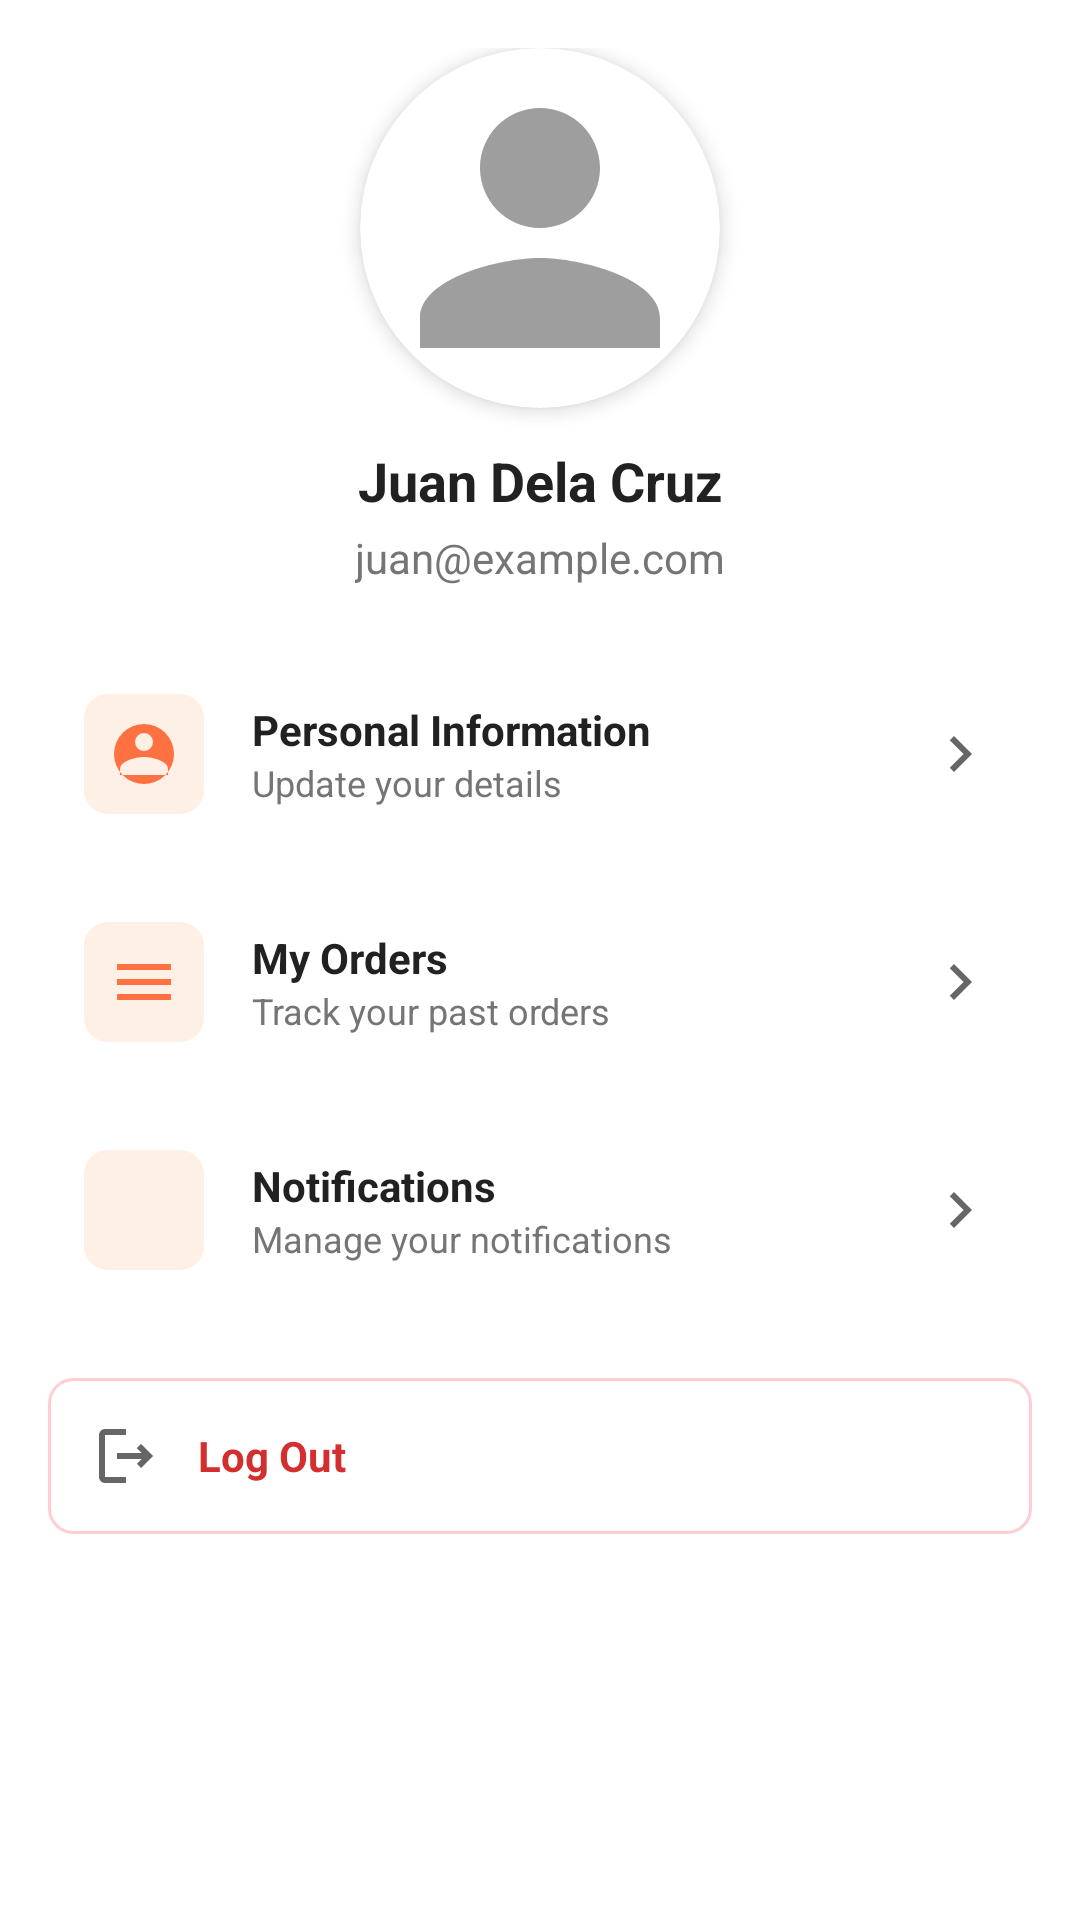

Where icons sit on this 1080 × 1920 app screen, as (x1, y1, x2, y2):
account: (84, 694, 204, 814)
chevron right: (950, 736, 972, 772), (950, 964, 972, 1000), (950, 1192, 972, 1228)
Profile: (368, 108, 720, 408)
